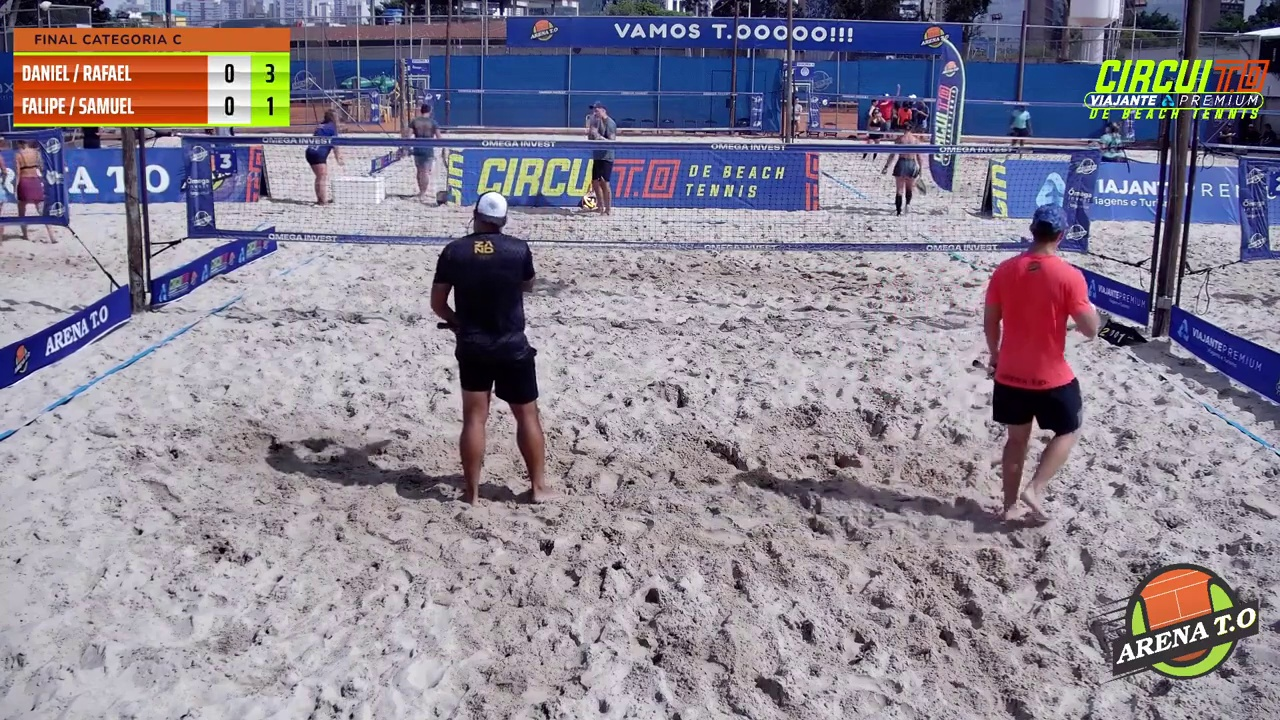court_line: (643, 0, 805, 409)
